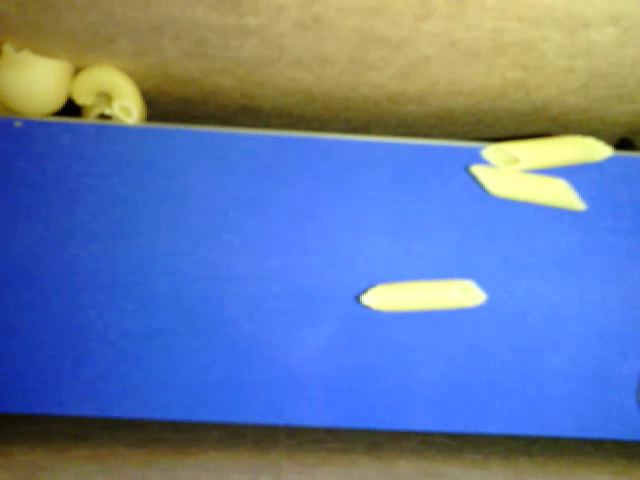elbow: (70, 63, 142, 124)
penne: (468, 164, 585, 210), (479, 135, 613, 171), (357, 277, 486, 312)
shell: (1, 44, 73, 115), (82, 93, 147, 124)
